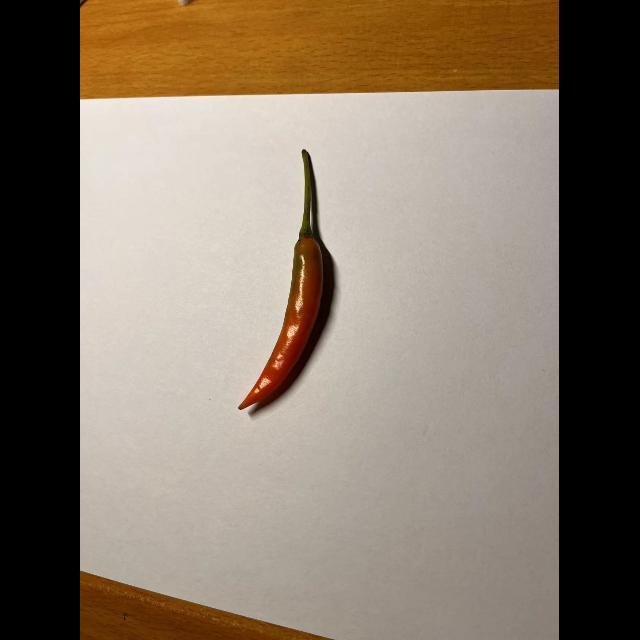chili_pepper: (234, 145, 344, 427)
